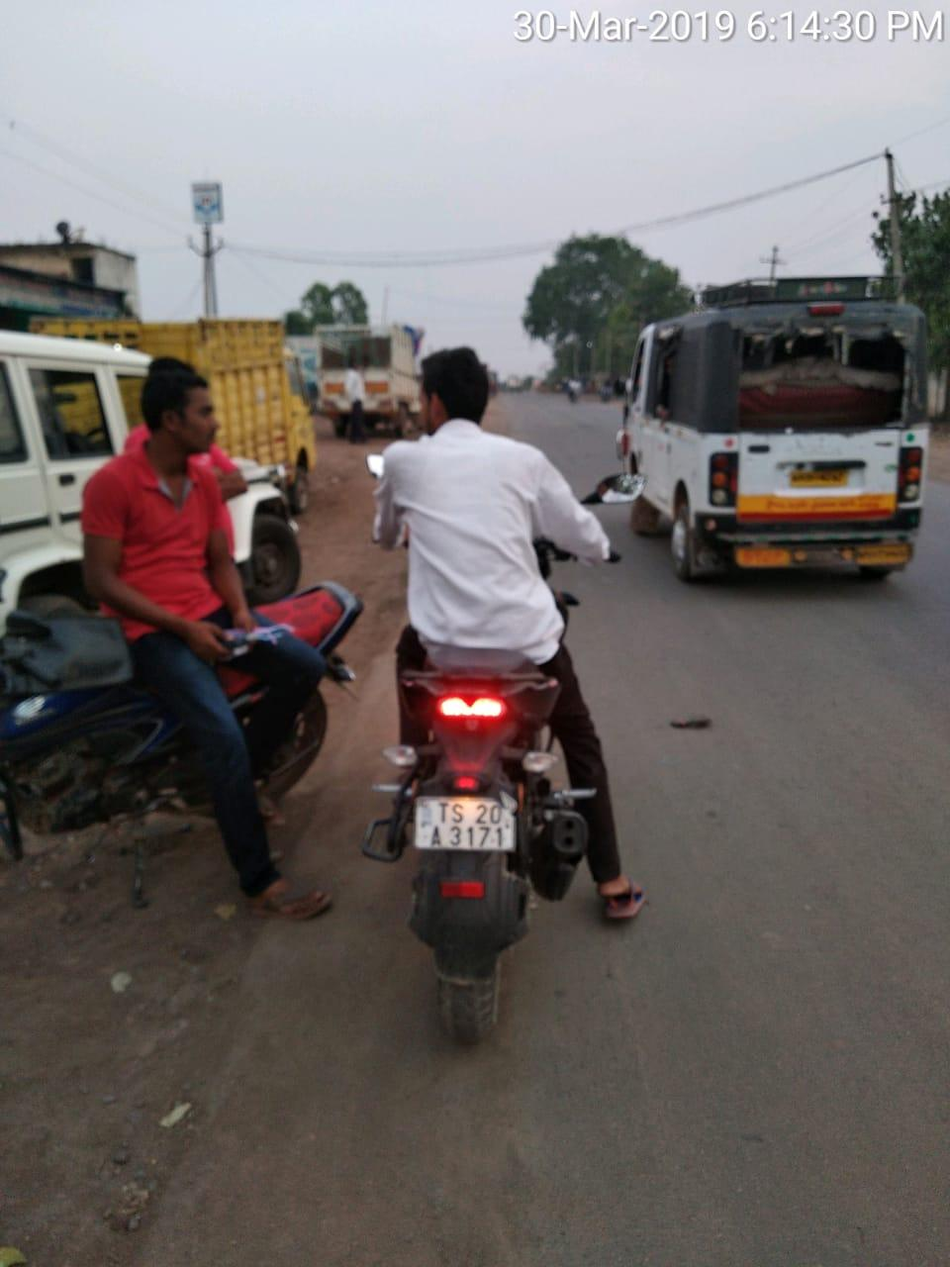plate: (395, 784, 543, 875)
